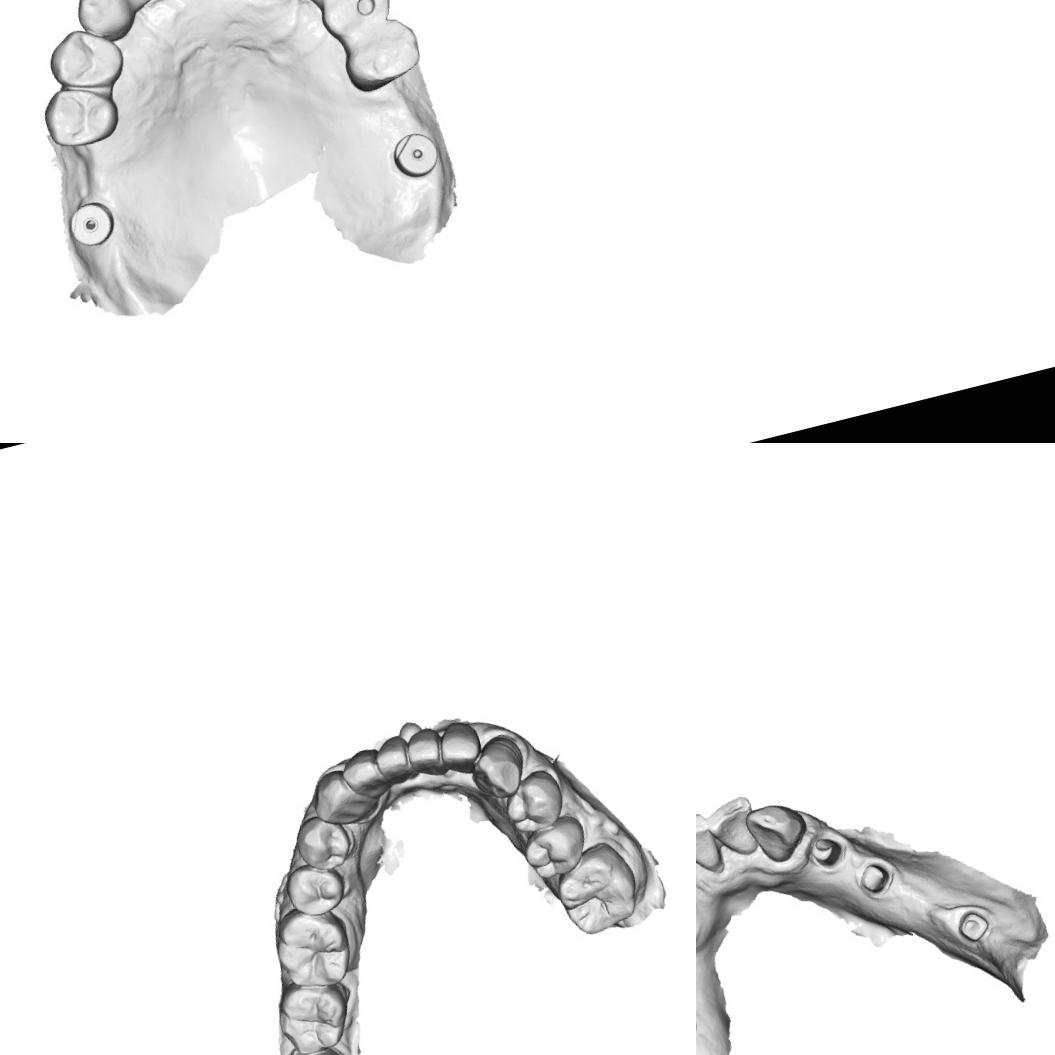abutment: (852, 854, 897, 900), (950, 902, 994, 948), (804, 830, 847, 875)
canine: (740, 794, 815, 869), (461, 730, 531, 804), (303, 762, 371, 836), (65, 0, 134, 45)
implant: (62, 194, 118, 252), (386, 124, 442, 182)
incisor: (698, 791, 764, 866), (431, 716, 486, 776), (368, 730, 418, 792), (399, 725, 448, 784), (337, 744, 388, 800), (696, 808, 726, 879)
molar: (545, 834, 646, 942), (260, 897, 360, 1000), (269, 970, 363, 1055), (271, 1032, 366, 1055)
premolar: (336, 14, 428, 95), (40, 19, 132, 99), (37, 76, 125, 154), (515, 810, 595, 886), (498, 764, 569, 838), (288, 806, 359, 876), (279, 856, 352, 923), (311, 0, 396, 44)
